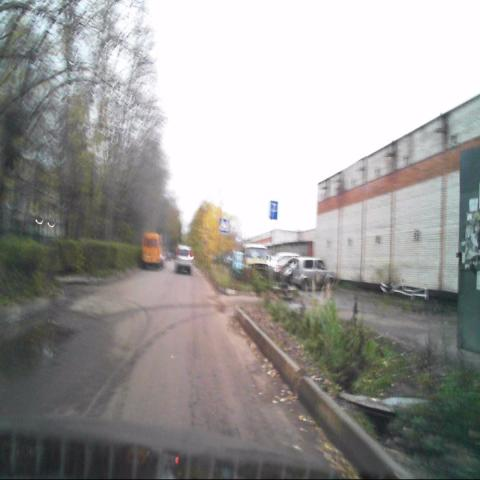5_20: (219, 218, 227, 232)
